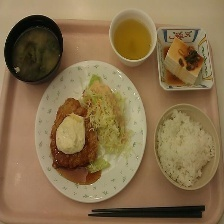rice: (155, 108, 217, 190)
